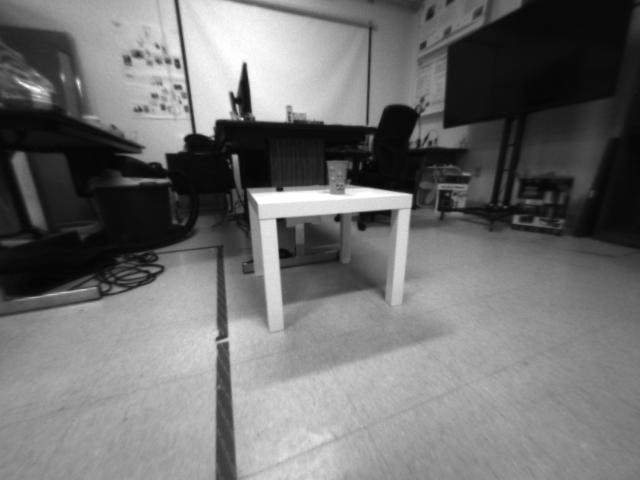coffee_cup: (323, 158, 351, 195)
